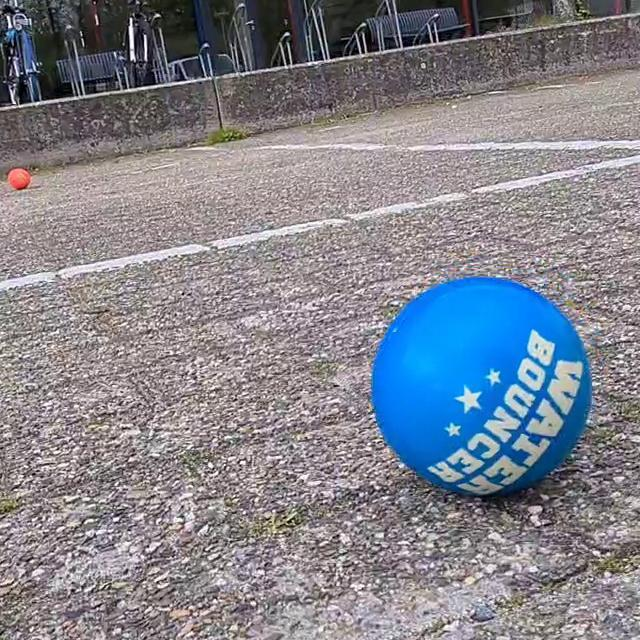ball: (8, 165, 32, 192)
